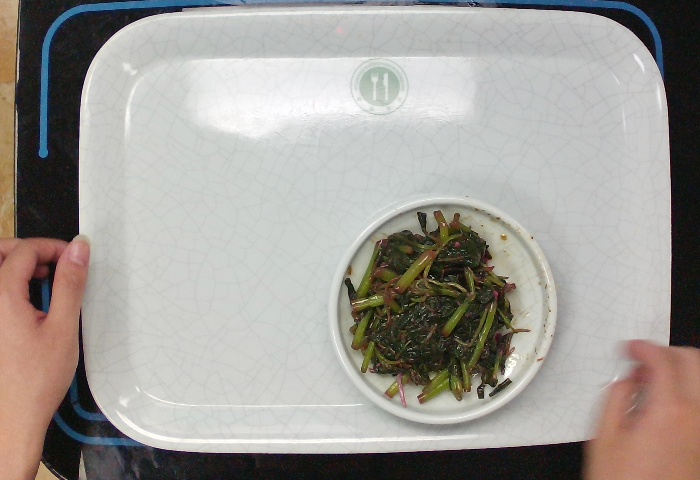JYsf-Xiao_Yuan_Pan: (327, 195, 558, 426)
